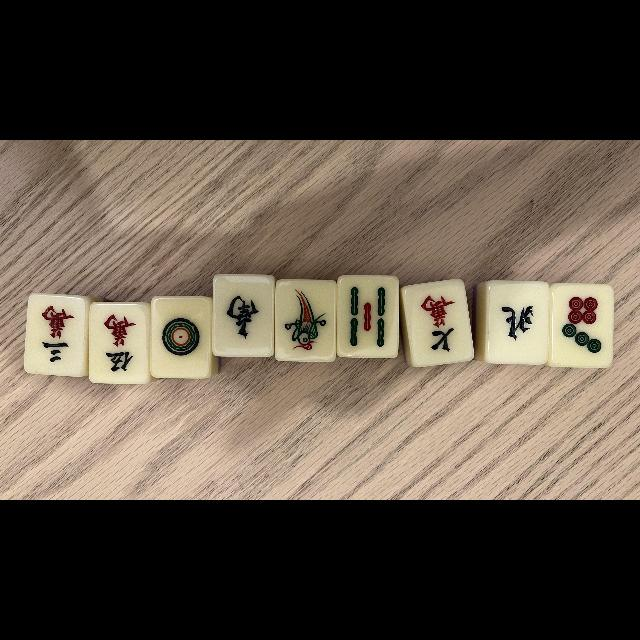b1: (276, 281, 336, 361)
b5: (338, 276, 396, 356)
c3: (26, 296, 86, 374)
c5: (90, 304, 148, 382)
c7: (408, 284, 469, 364)
d1: (152, 300, 210, 376)
d7: (552, 285, 610, 367)
wn: (488, 283, 546, 362)
ws: (213, 275, 270, 353)
